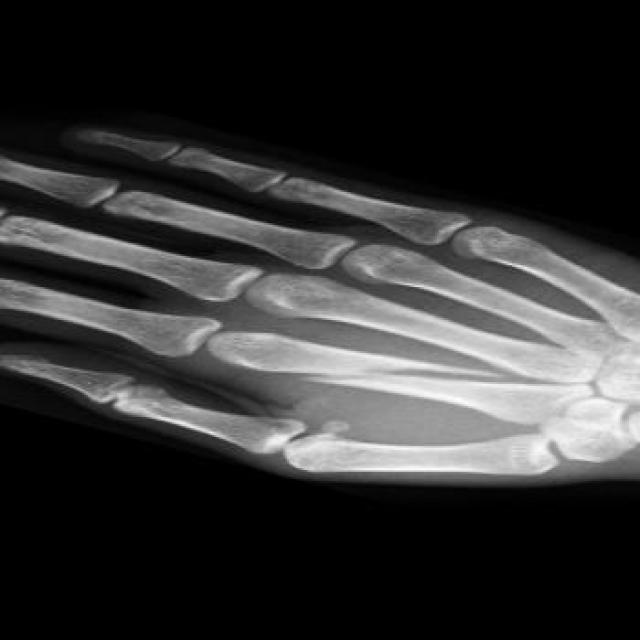Fracture: (284, 356, 530, 401)
